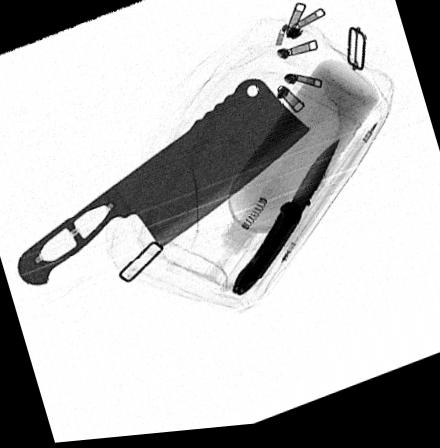Knife: (17, 82, 313, 286), (230, 145, 341, 301)
